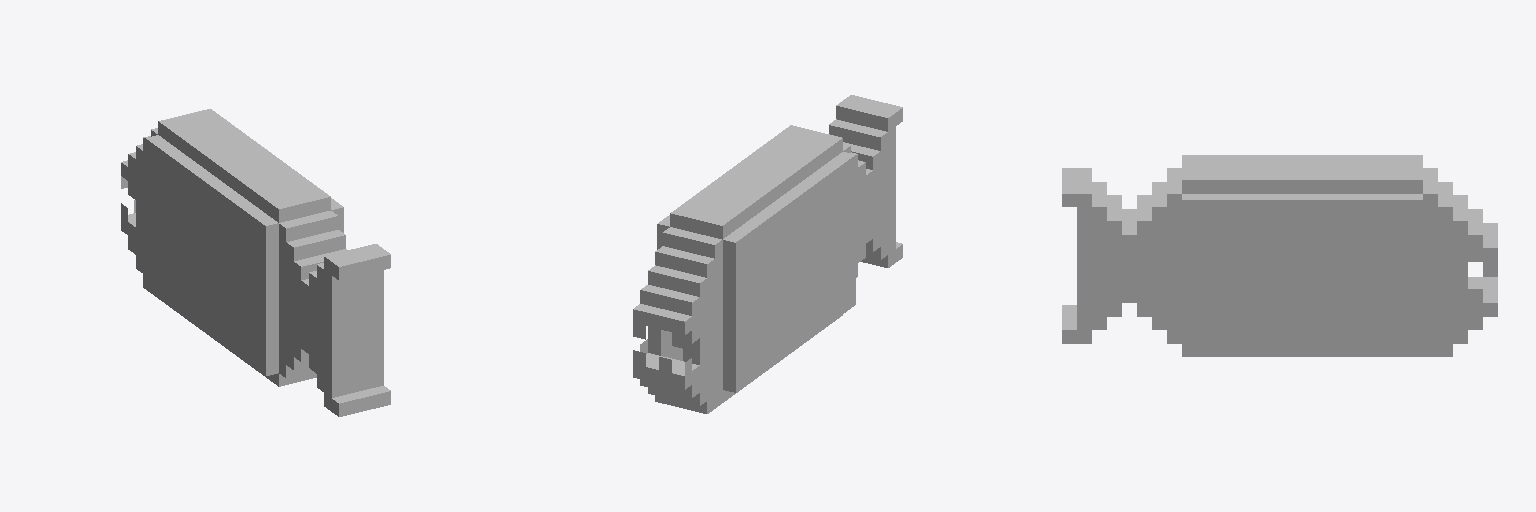
Rendered from giantfish.obj.
The picture shows the model from 3 angles: view 1: azimuth 30°, elevation 25°; view 2: azimuth 150°, elevation 25°; view 3: azimuth 270°, elevation 25°; orthographic projection.
Visible parts, largest first — view 1: cube; view 2: cube; view 3: cube.
Part boxes in pixels (left/top/right/bottom): cube: left=121, top=109, right=390, bottom=416; cube: left=633, top=95, right=902, bottom=413; cube: left=1062, top=155, right=1497, bottom=356.
Size of the model in its own units: 0.375 by 0.8125 by 1.81.